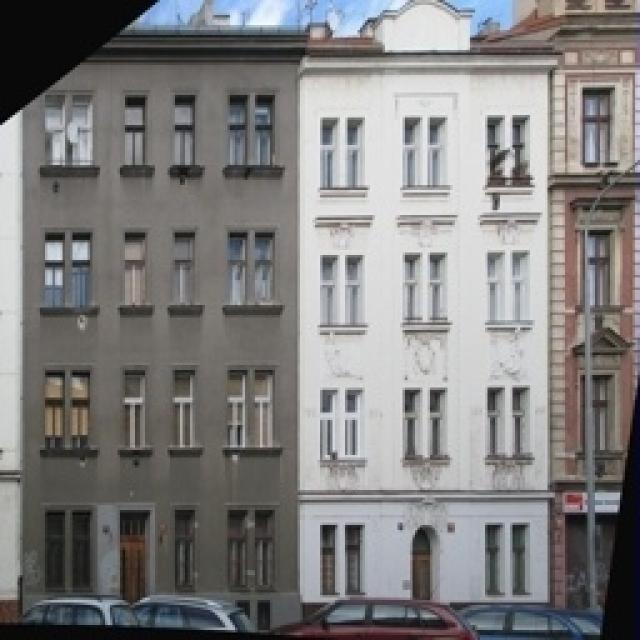building: (10, 0, 300, 635), (305, 0, 567, 640)
